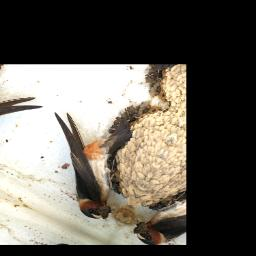Swallow: (11, 106, 149, 225)
